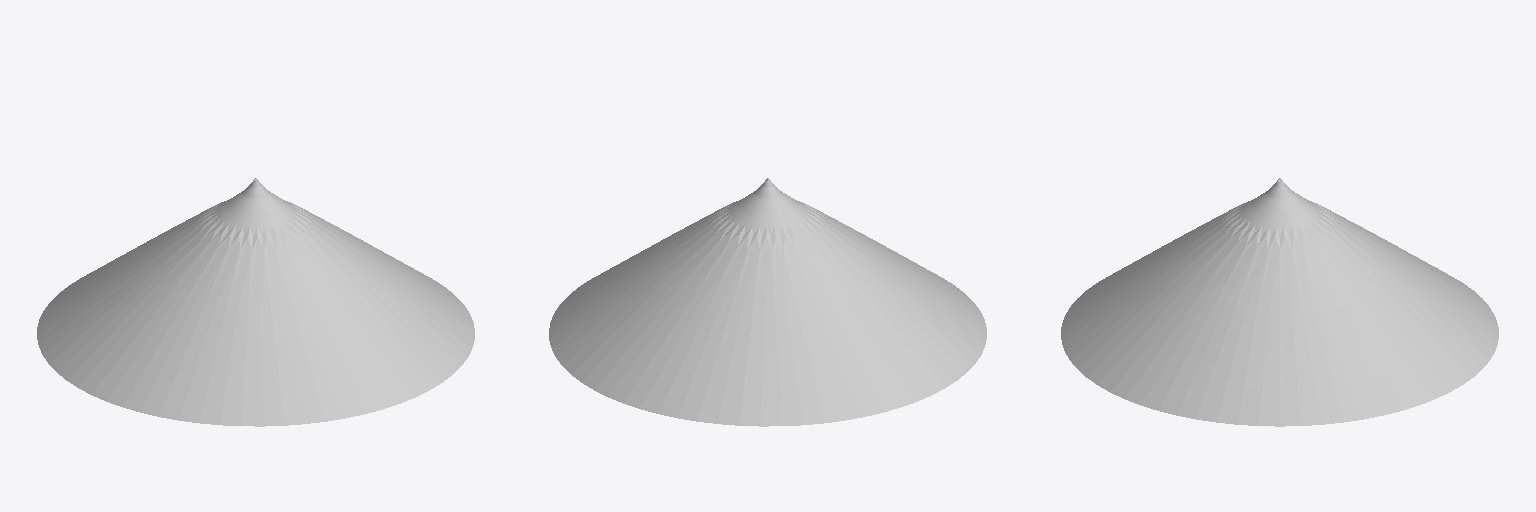
File: hat.obj
3 renders of one model, left to right at view 1: azimuth 30°, elevation 25°; view 2: azimuth 150°, elevation 25°; view 3: azimuth 270°, elevation 25°, orthographic.
Visible parts, largest first — view 1: Cylinder; view 2: Cylinder; view 3: Cylinder.
Part boxes in pixels (x1,y1,x2,y2): Cylinder: (37, 178, 474, 426); Cylinder: (549, 178, 986, 426); Cylinder: (1061, 178, 1498, 426).
Bounding box in the file's own units: 1.92 × 0.7542 × 1.92.